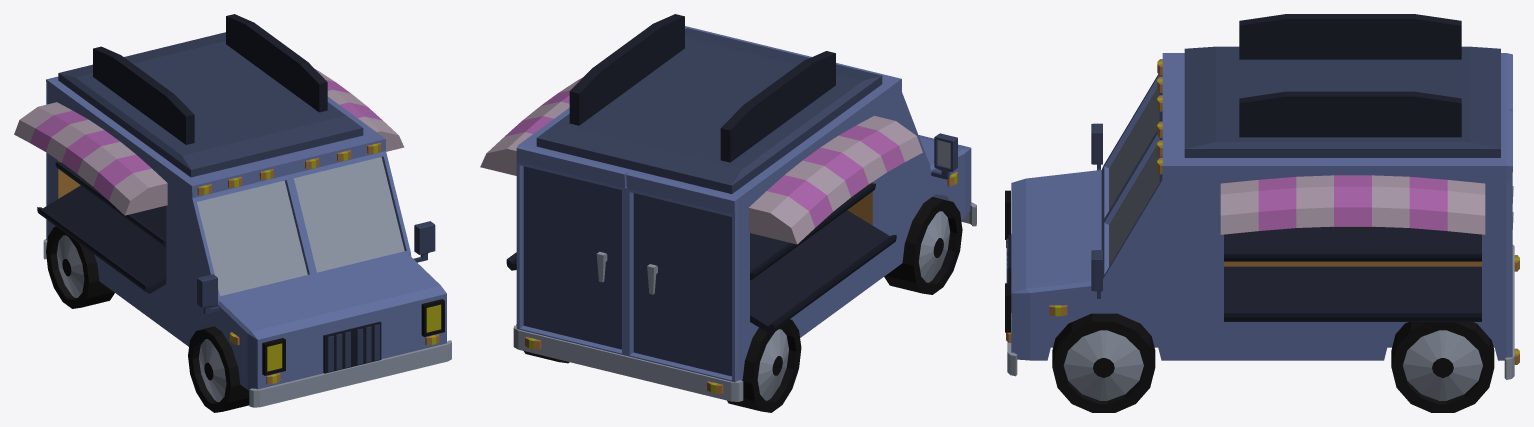
File: Pastry-Truck.fbx
3 renders of one model, left to right at view 1: azimuth 30°, elevation 25°; view 2: azimuth 150°, elevation 25°; view 3: azimuth 270°, elevation 25°, orthographic. The views are drawn at different scales.
Parts seen in each view (by area): view 1: Truck; view 2: Truck; view 3: Truck.
Boxes of the visible parts, x1=… form: Truck: x1=14, y1=14, x2=451, y2=412; Truck: x1=480, y1=14, x2=976, y2=412; Truck: x1=1005, y1=14, x2=1519, y2=412.
Size of the model in its own units: 475 by 404 by 635.
